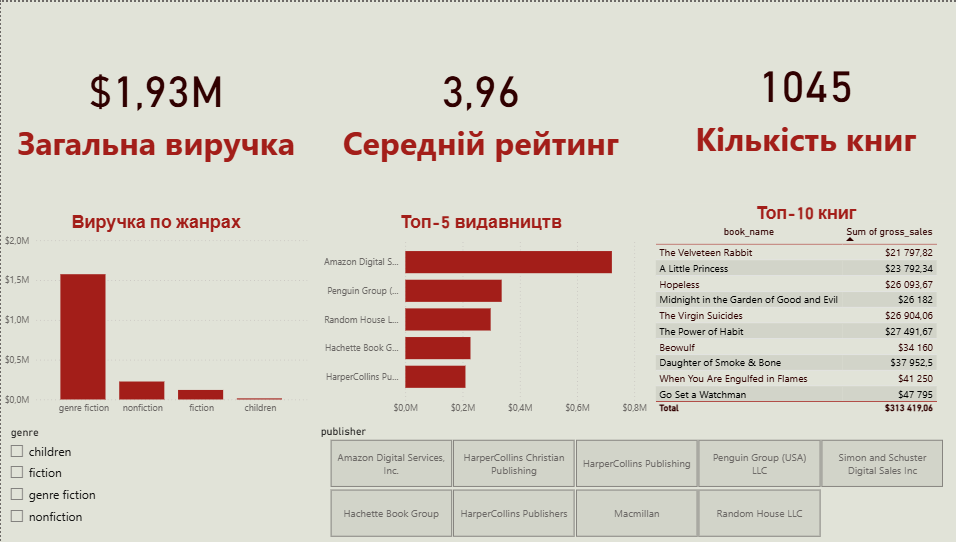

What the dashboard file says about the page in this screenshot:
{"tool":"powerbi","page":{"name":"General  view ","canvas":[1280,720],"ordinal":0},"visuals":[{"type":"clusteredColumnChart","title":"Виручка по жанрах","fields":{"Category":["Books_Data_Clean.genre"],"Y":["Sum(Books_Data_Clean.gross_sales)"]},"box":[0,280.2,413.9,280.2],"z":0},{"type":"clusteredBarChart","title":"Топ-5 видавництв","fields":{"Category":["Books_Data_Clean.publisher"],"Y":["Sum(Books_Data_Clean.gross_sales)"]},"box":[413.3,280,453.3,280],"z":1000},{"type":"tableEx","title":"Топ-10 книг","fields":{"Values":["Books_Data_Clean.book_name","Sum(Books_Data_Clean.gross_sales)"]},"box":[866.7,268.3,413.3,290],"z":2000},{"type":"card","fields":{"Values":["Sum(Books_Data_Clean.gross_sales)"]},"box":[0,0,414,280],"z":3000},{"type":"card","fields":{"Values":["Avg(Books_Data_Clean.book_average_rating (bins))"]},"box":[413.3,0,453.3,280],"z":4000},{"type":"card","fields":{"Values":["Count(Books_Data_Clean.book_name)"]},"box":[866.7,0,413.3,268.3],"z":5000},{"type":"slicer","fields":{"Values":["Books_Data_Clean.genre"]},"box":[0,560,414.4,160],"z":6000},{"type":"slicer","fields":{"Values":["Books_Data_Clean.publisher"]},"box":[413.3,558.9,866.7,161.1],"z":7000}]}

Visuals, with their boxes in screenshot pixels (x1, y1, x2, y2), scaled from the page's 1280x720 canvas onto the 956x542 screenshot:
"Виручка по жанрах" clusteredColumnChart: locate(0, 211, 309, 422)
"Топ-5 видавництв" clusteredBarChart: locate(309, 211, 647, 422)
"Топ-10 книг" tableEx: locate(647, 202, 955, 420)
card - Sum(Books_Data_Clean.gross_sales): locate(0, 0, 309, 211)
card - Avg(Books_Data_Clean.book_average_rating (bins)): locate(309, 0, 647, 211)
card - Count(Books_Data_Clean.book_name): locate(647, 0, 955, 202)
slicer - Books_Data_Clean.genre: locate(0, 422, 310, 541)
slicer - Books_Data_Clean.publisher: locate(309, 421, 955, 541)
